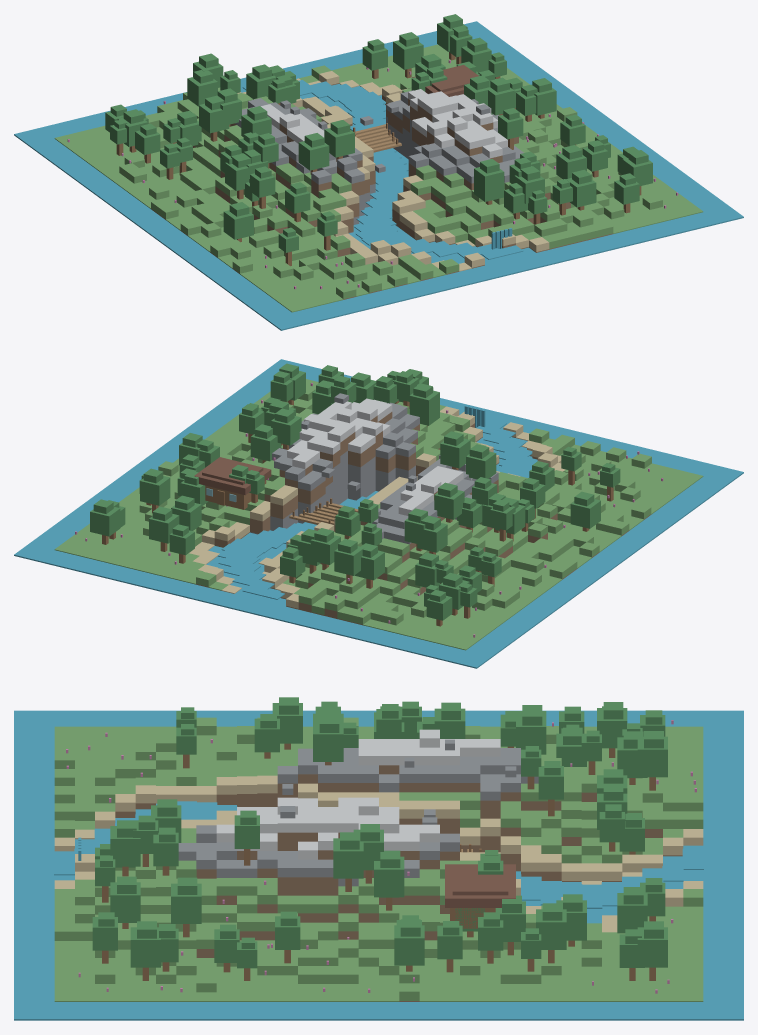
Rendered from earth-voxel-terrain.glb.
3 views of the same model, one above another, from view 1: azimuth 30°, elevation 25°; view 2: azimuth 150°, elevation 25°; view 3: azimuth 270°, elevation 25° (orthographic). The views are drawn at different scales.
Visible parts, largest first — view 1: grass, leaf, water, sand, stone, snow, dirt, wood, roof, bridge; view 2: grass, leaf, water, stone, snow, sand, dirt, wood, roof, bridge; view 3: grass, leaf, water, sand, dirt, stone, snow, wood, roof, flowers.
Part boxes in pixels (<box>): grass: <box>54,44,703,312</box>; leaf: <box>105,14,652,252</box>; water: <box>14,21,743,330</box>; sand: <box>237,71,549,271</box>; stone: <box>235,90,523,233</box>; snow: <box>261,89,507,158</box>; dirt: <box>151,83,613,299</box>; wood: <box>116,52,641,266</box>; roof: <box>412,65,478,96</box>; bridge: <box>355,124,401,152</box>; grass: <box>54,379,703,650</box>; leaf: <box>90,363,620,620</box>; water: <box>14,359,743,668</box>; stone: <box>250,393,498,544</box>; snow: <box>287,398,463,515</box>; sand: <box>189,406,565,608</box>; dirt: <box>196,412,651,625</box>; wood: <box>102,399,613,626</box>; roof: <box>194,457,271,495</box>; bridge: <box>289,502,358,524</box>; grass: <box>54,717,703,1001</box>; leaf: <box>92,697,667,968</box>; water: <box>14,710,743,1020</box>; sand: <box>54,775,703,932</box>; dirt: <box>115,765,682,1001</box>; stone: <box>178,739,538,886</box>; snow: <box>216,729,500,859</box>; wood: <box>102,743,655,980</box>; roof: <box>445,864,515,907</box>; flowers: <box>66,720,696,993</box>.
Bounding box in the file's own units: 72 × 12.57 × 72.
